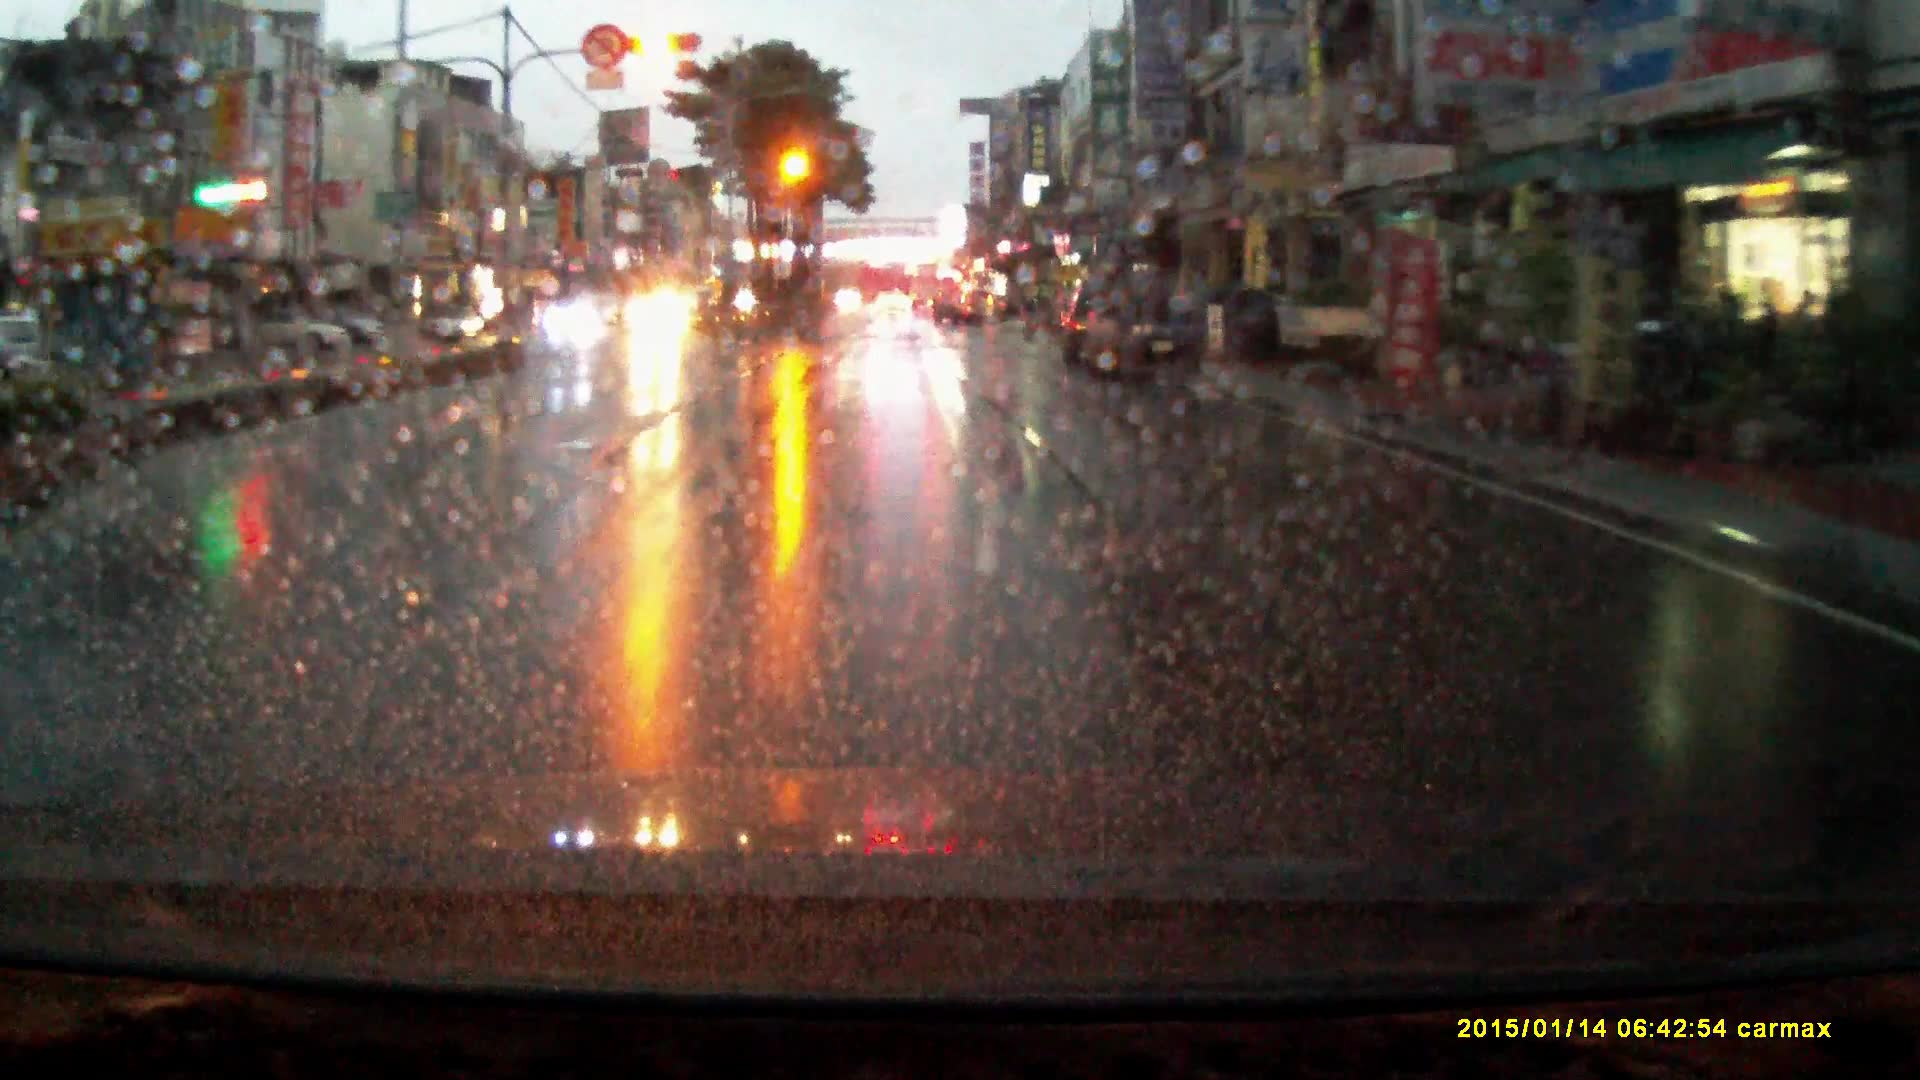vehicle: (1083, 273, 1212, 390), (1276, 310, 1411, 364), (233, 313, 343, 357), (621, 293, 696, 345), (1062, 284, 1098, 372), (934, 286, 997, 330), (322, 316, 396, 353), (425, 306, 485, 345), (547, 305, 608, 344), (911, 268, 944, 313), (876, 295, 913, 319)
